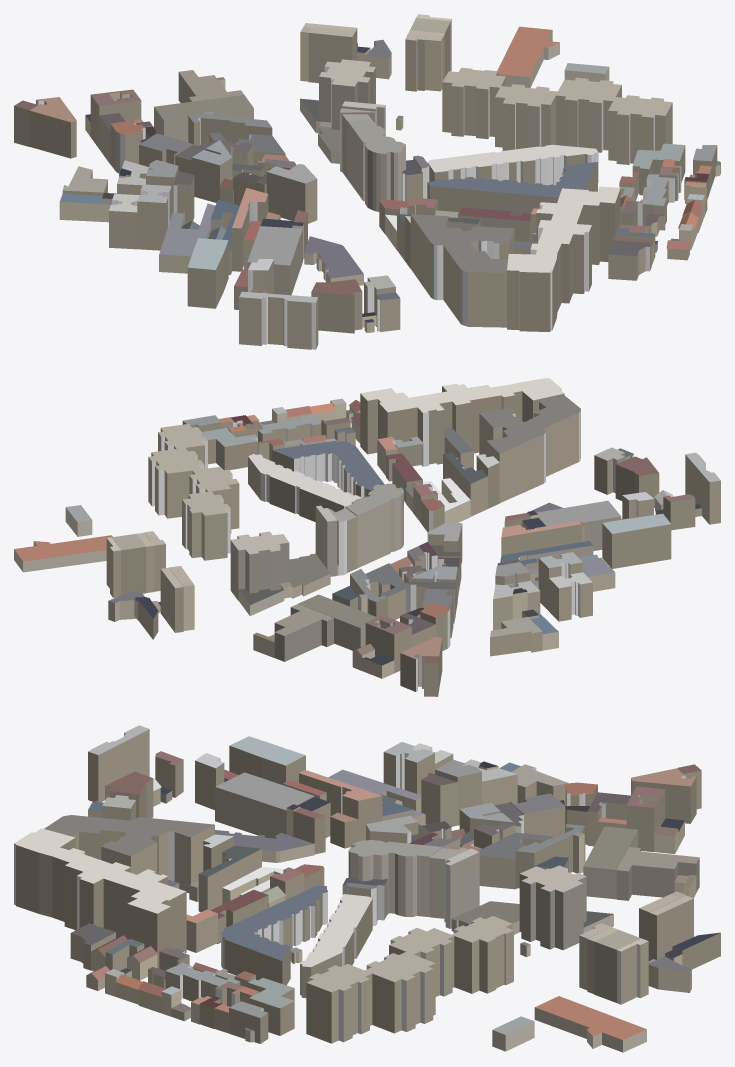
The picture shows the model from 3 angles, top to bottom: view 1: azimuth 30°, elevation 25°; view 2: azimuth 150°, elevation 25°; view 3: azimuth 270°, elevation 25°; orthographic projection. The views are drawn at different scales.
Visible parts, largest first — view 1: tuile; view 2: tuile; view 3: tuile.
Part boxes in pixels (<box>): tuile: <box>14,14,720,349</box>; tuile: <box>14,378,720,696</box>; tuile: <box>14,725,720,1052</box>.
Size of the model in its own units: 267 by 31.71 by 289.
